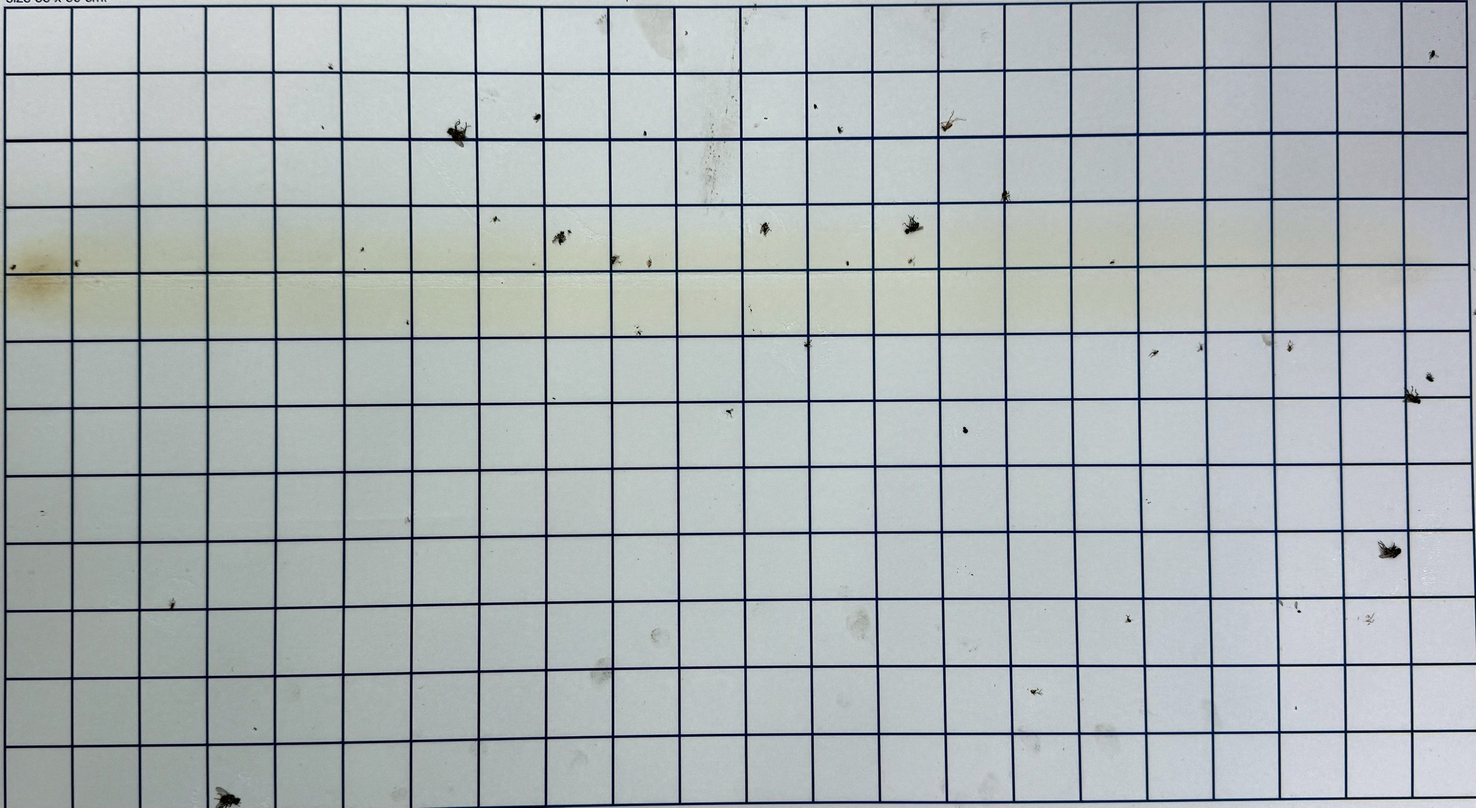fly: (215, 786, 242, 808), (448, 121, 469, 147), (1376, 539, 1402, 560), (905, 216, 924, 235), (1403, 386, 1422, 405)
test: (761, 222, 771, 238), (611, 254, 623, 267), (556, 232, 567, 245), (1364, 615, 1376, 625), (942, 122, 955, 131), (1001, 191, 1010, 201), (1429, 49, 1437, 60), (1147, 350, 1159, 357), (726, 408, 733, 419), (805, 340, 813, 348), (646, 258, 653, 267), (1427, 371, 1433, 381), (1125, 615, 1132, 623), (1475, 349, 1476, 401), (170, 599, 175, 609), (533, 114, 540, 121), (492, 216, 499, 223), (1287, 344, 1293, 352), (837, 126, 843, 134), (10, 264, 17, 270), (962, 426, 968, 433), (1295, 608, 1302, 614), (1030, 689, 1038, 694), (635, 328, 641, 334), (532, 262, 538, 268), (684, 31, 690, 37), (909, 258, 914, 265), (1200, 345, 1204, 353), (844, 260, 850, 265), (405, 516, 410, 522), (75, 260, 79, 267), (813, 102, 817, 109), (1110, 260, 1115, 265), (748, 307, 753, 312), (1294, 705, 1299, 710), (568, 228, 572, 234), (762, 116, 769, 119), (360, 246, 364, 251), (405, 320, 409, 325), (643, 132, 648, 136), (551, 396, 555, 401), (1146, 501, 1151, 505), (321, 125, 324, 131), (329, 65, 333, 69), (253, 727, 256, 732), (41, 510, 45, 513), (501, 281, 504, 285), (752, 329, 756, 332), (363, 268, 367, 270)
